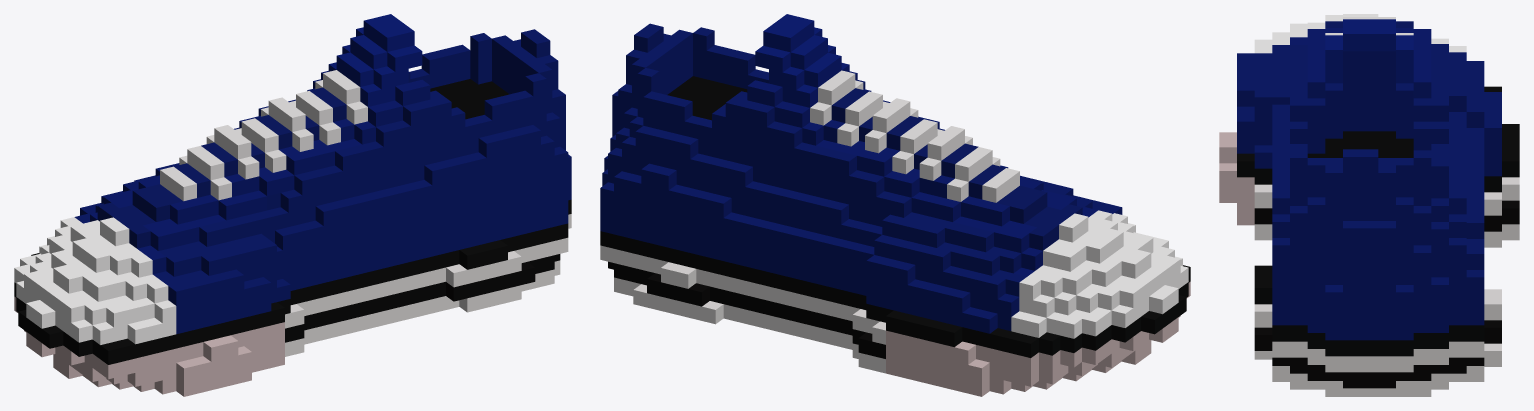
Rendered from Denim.fbx.
3 views of the same model, side by side, from view 1: azimuth 30°, elevation 25°; view 2: azimuth 150°, elevation 25°; view 3: azimuth 270°, elevation 25° (orthographic). The views are drawn at different scales.
Visible parts, largest first — view 1: Untitled; view 2: Untitled; view 3: Untitled.
Boxes of the visible parts, x1,y1,x2,y2 form: Untitled: (14,14,571,396); Untitled: (600,14,1190,396); Untitled: (1219,14,1519,396).
Size of the model in its own units: 390 by 180 by 170.
